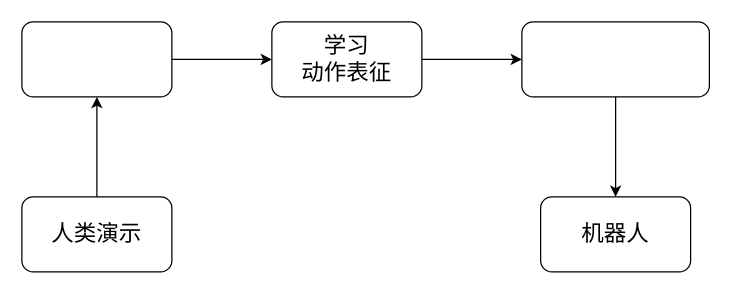
The diagram is 731 pixels wide and 294 high, and some of its shapes have lost their labels. The shapes that lost their labels are listed below. From the top down, each one's centre as x and y in pixels, then its label:
point 96,59: 感知 行为获取
point 615,59: 执行 行为再现、泛化
